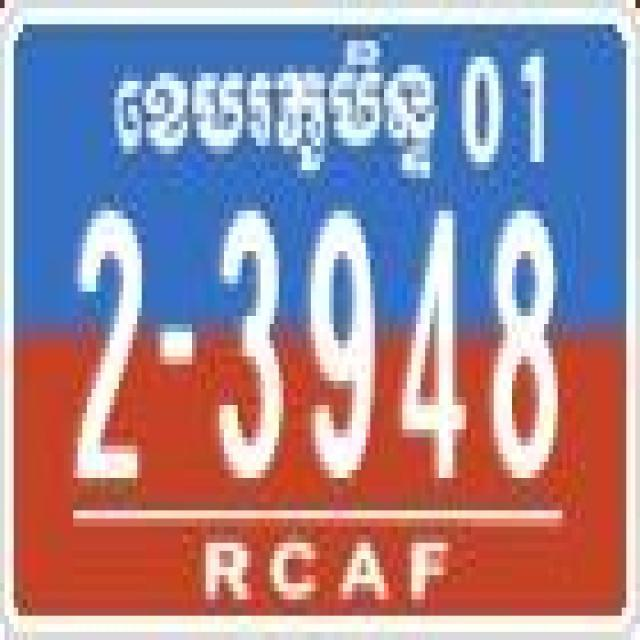RCAF: (110, 33, 438, 196)
